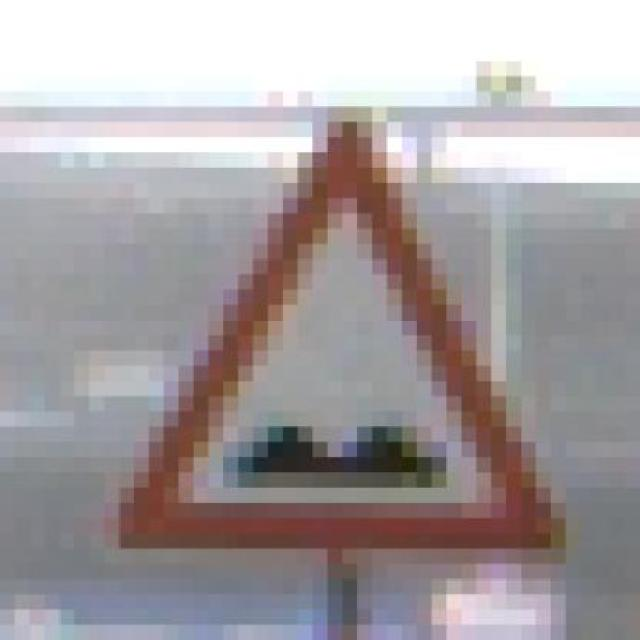Uneven Road: (104, 107, 565, 564)
